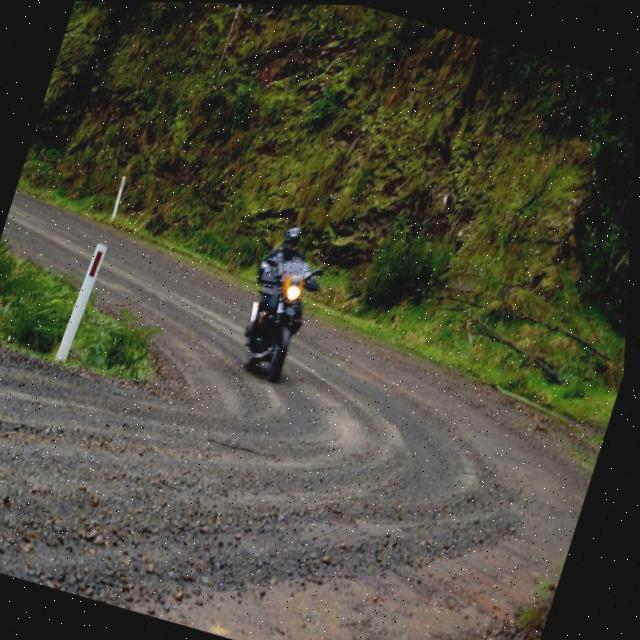motorcycle: (212, 241, 341, 396)
